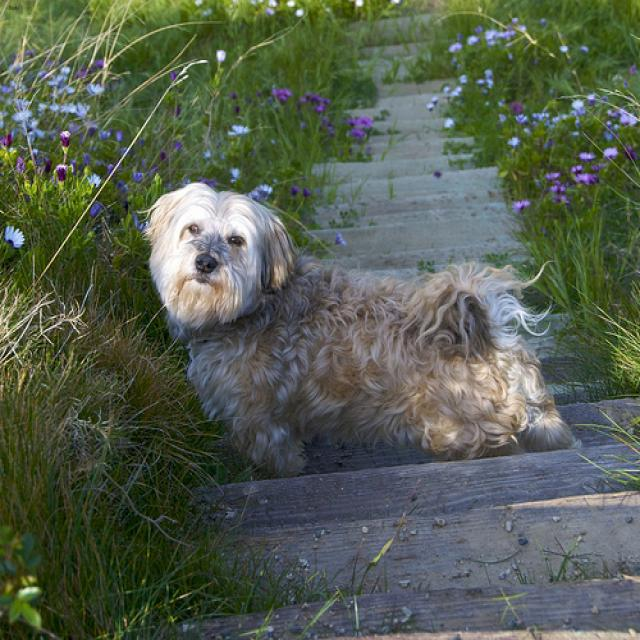dog-havanese: (127, 180, 584, 494)
